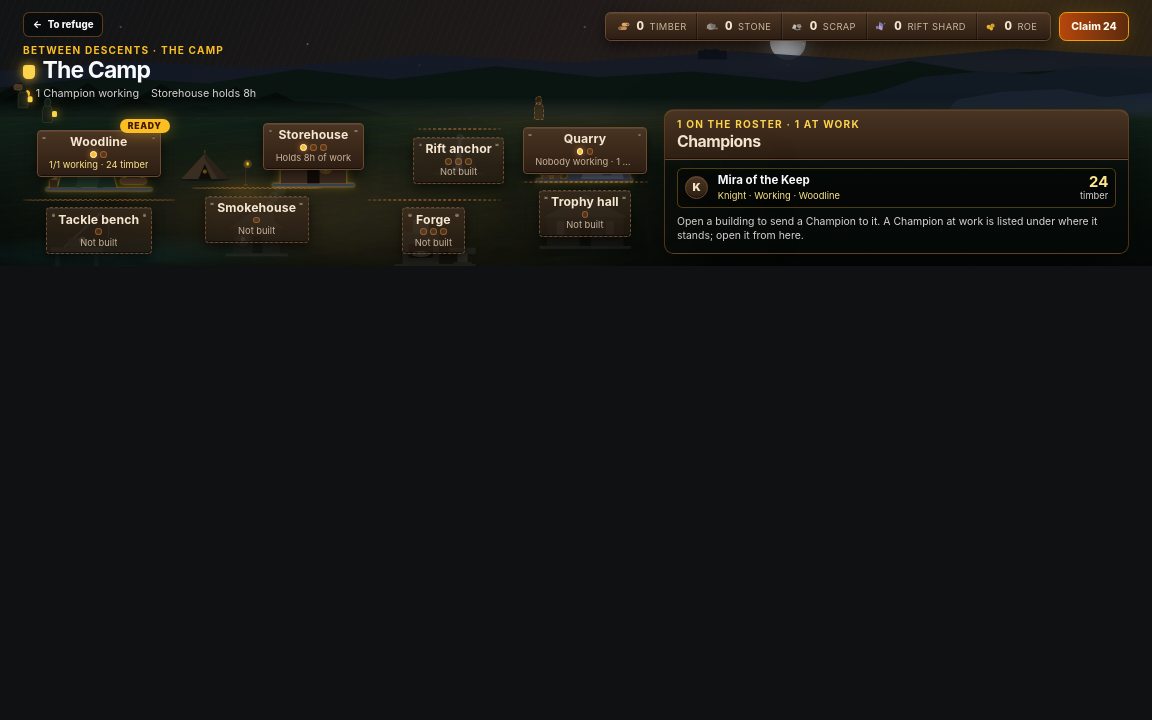
Test: CampScreen › brings a Champion back and pays what it produced
This screenshot has width=1152, height=720.
Click the button "Woodline 1/1 working · 24 timber Ready": (99, 145) [23, 116, 174, 174]
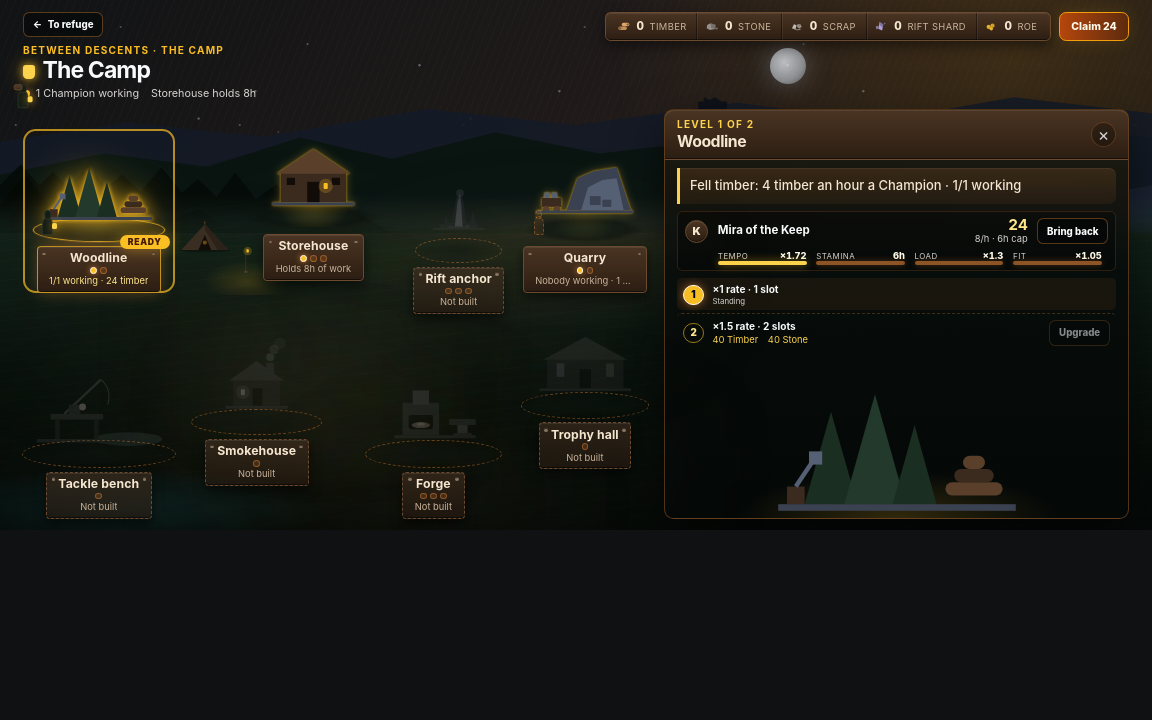
Expected: the heading "Woodline" is shown, [677, 132, 746, 151]
Click the button "Bring back": (1073, 231) [1037, 218, 1108, 244]
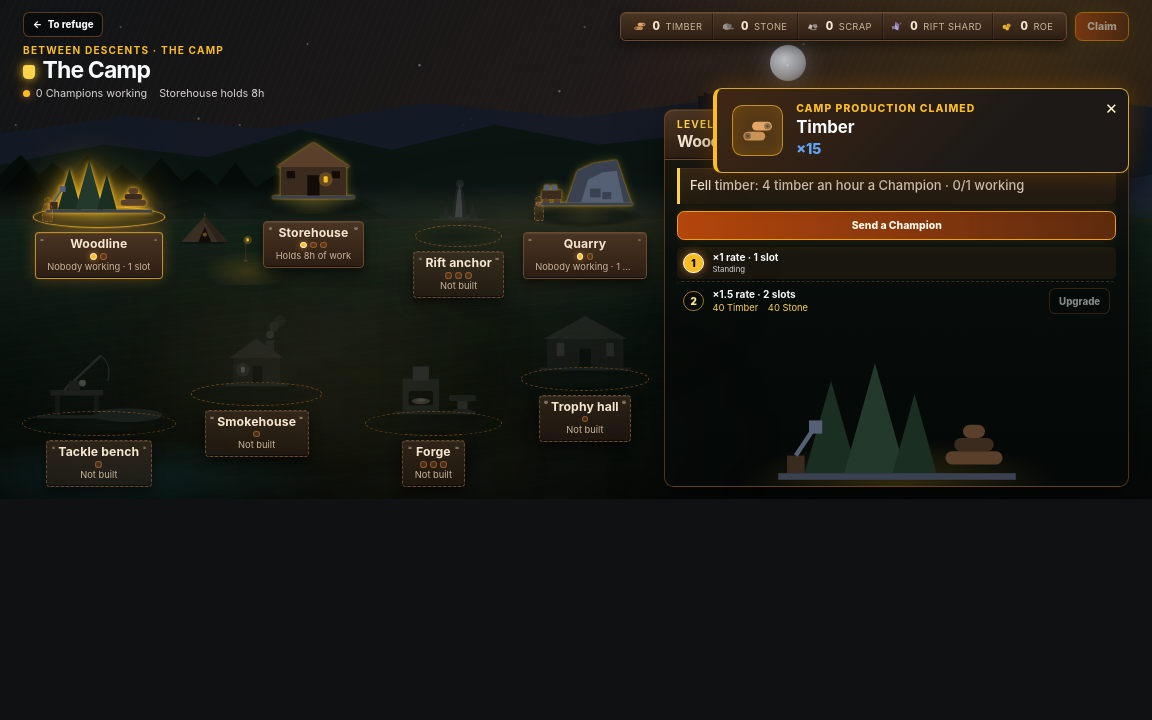
Expected: the text "Camp production claimed" is shown, [796, 103, 975, 115]
Expected: the button "Send a Champion" is shown, [677, 211, 1116, 240]
